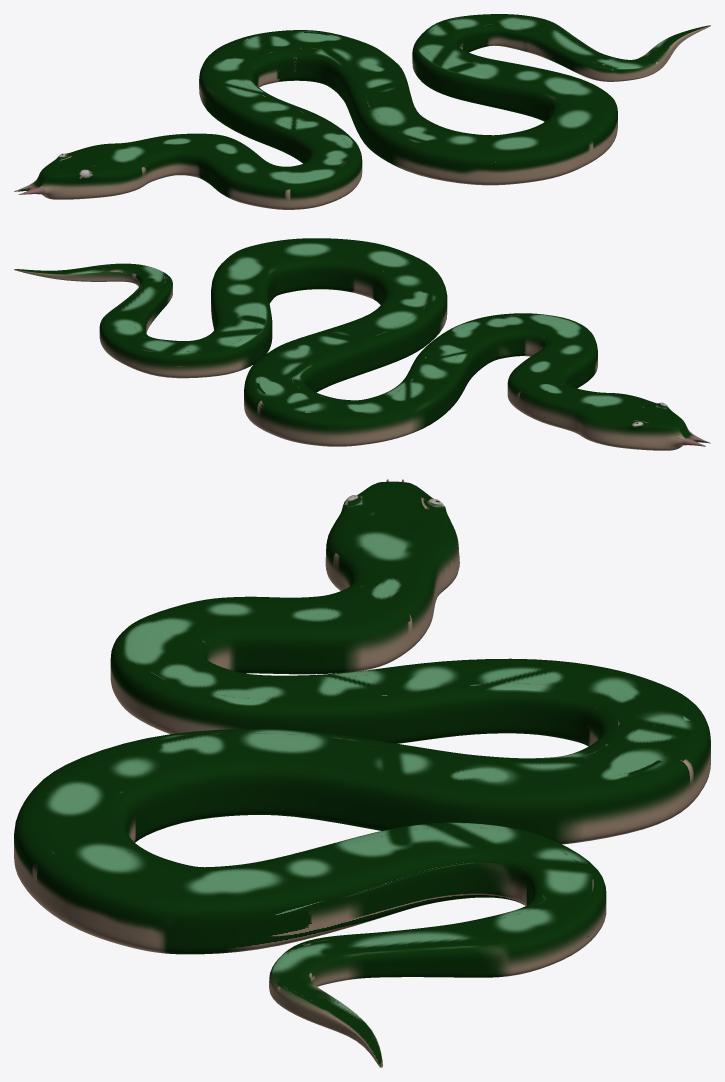
File: Serpiente.obj
3 renders of one model, top to bottom at view 1: azimuth 30°, elevation 25°; view 2: azimuth 150°, elevation 25°; view 3: azimuth 270°, elevation 25°, orthographic. The views are drawn at different scales.
Visible parts, largest first — view 1: Serpiente; view 2: Serpiente; view 3: Serpiente.
Boxes of the visible parts, x1=… form: Serpiente: x1=14, y1=14, x2=710, y2=209; Serpiente: x1=14, y1=238, x2=710, y2=450; Serpiente: x1=14, y1=479, x2=710, y2=1067.
Size of the model in its own units: 5.01 by 0.2134 by 2.49.
Materials: 1 (1 with a texture image).
